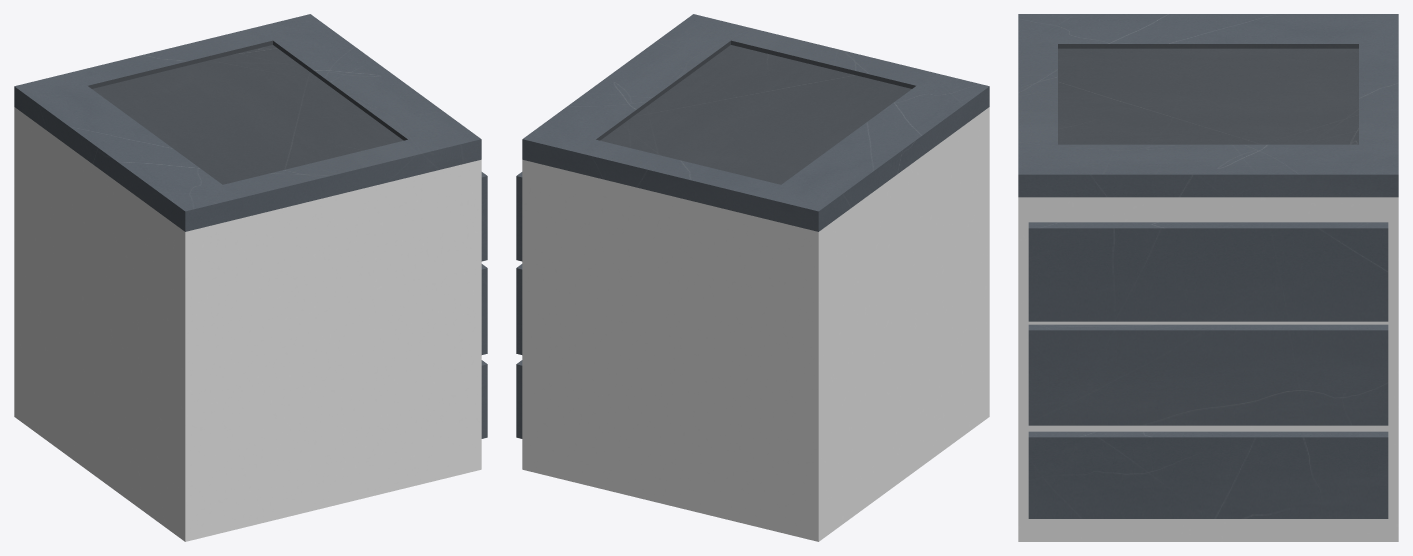
Rendered from mdl_Kitchen_basic03.fbx.
The picture shows the model from 3 angles, left to right: view 1: azimuth 30°, elevation 25°; view 2: azimuth 150°, elevation 25°; view 3: azimuth 270°, elevation 25°; orthographic projection. The views are drawn at different scales.
Parts seen in each view (by area): view 1: Cube.006; view 2: Cube.006; view 3: Cube.006.
Part boxes in pixels (x1=…): Cube.006: x1=14, y1=14, x2=487, y2=541; Cube.006: x1=516, y1=14, x2=989, y2=541; Cube.006: x1=1018, y1=14, x2=1398, y2=541.
Bounding box in the file's own units: 618 × 636 × 597.
